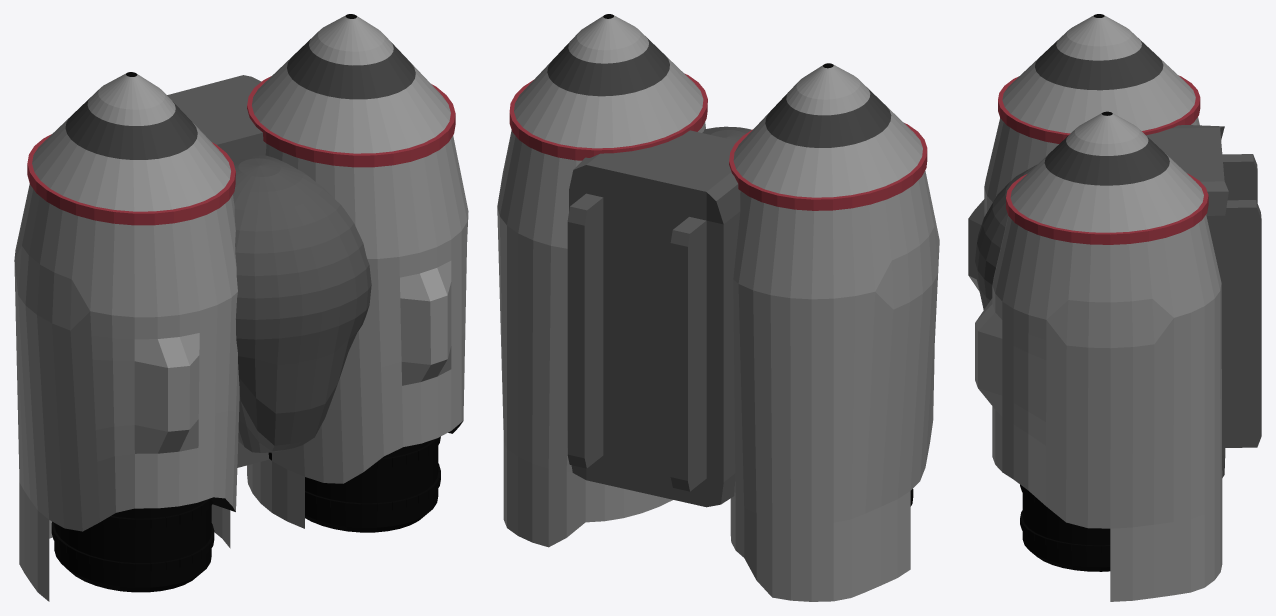
File: uploads_files_3102637_jetpack.fbx
3 renders of one model, left to right at view 1: azimuth 30°, elevation 25°; view 2: azimuth 150°, elevation 25°; view 3: azimuth 270°, elevation 25°, orthographic. The views are drawn at different scales.
Visible parts, largest first — view 1: JETPACK; view 2: JETPACK; view 3: JETPACK.
Part boxes in pixels (left/top/right/bottom): JETPACK: left=14, top=14, right=468, bottom=601; JETPACK: left=497, top=14, right=939, bottom=601; JETPACK: left=968, top=14, right=1261, bottom=601.
Bounding box in the file's own units: 110 × 128 × 75.2.
